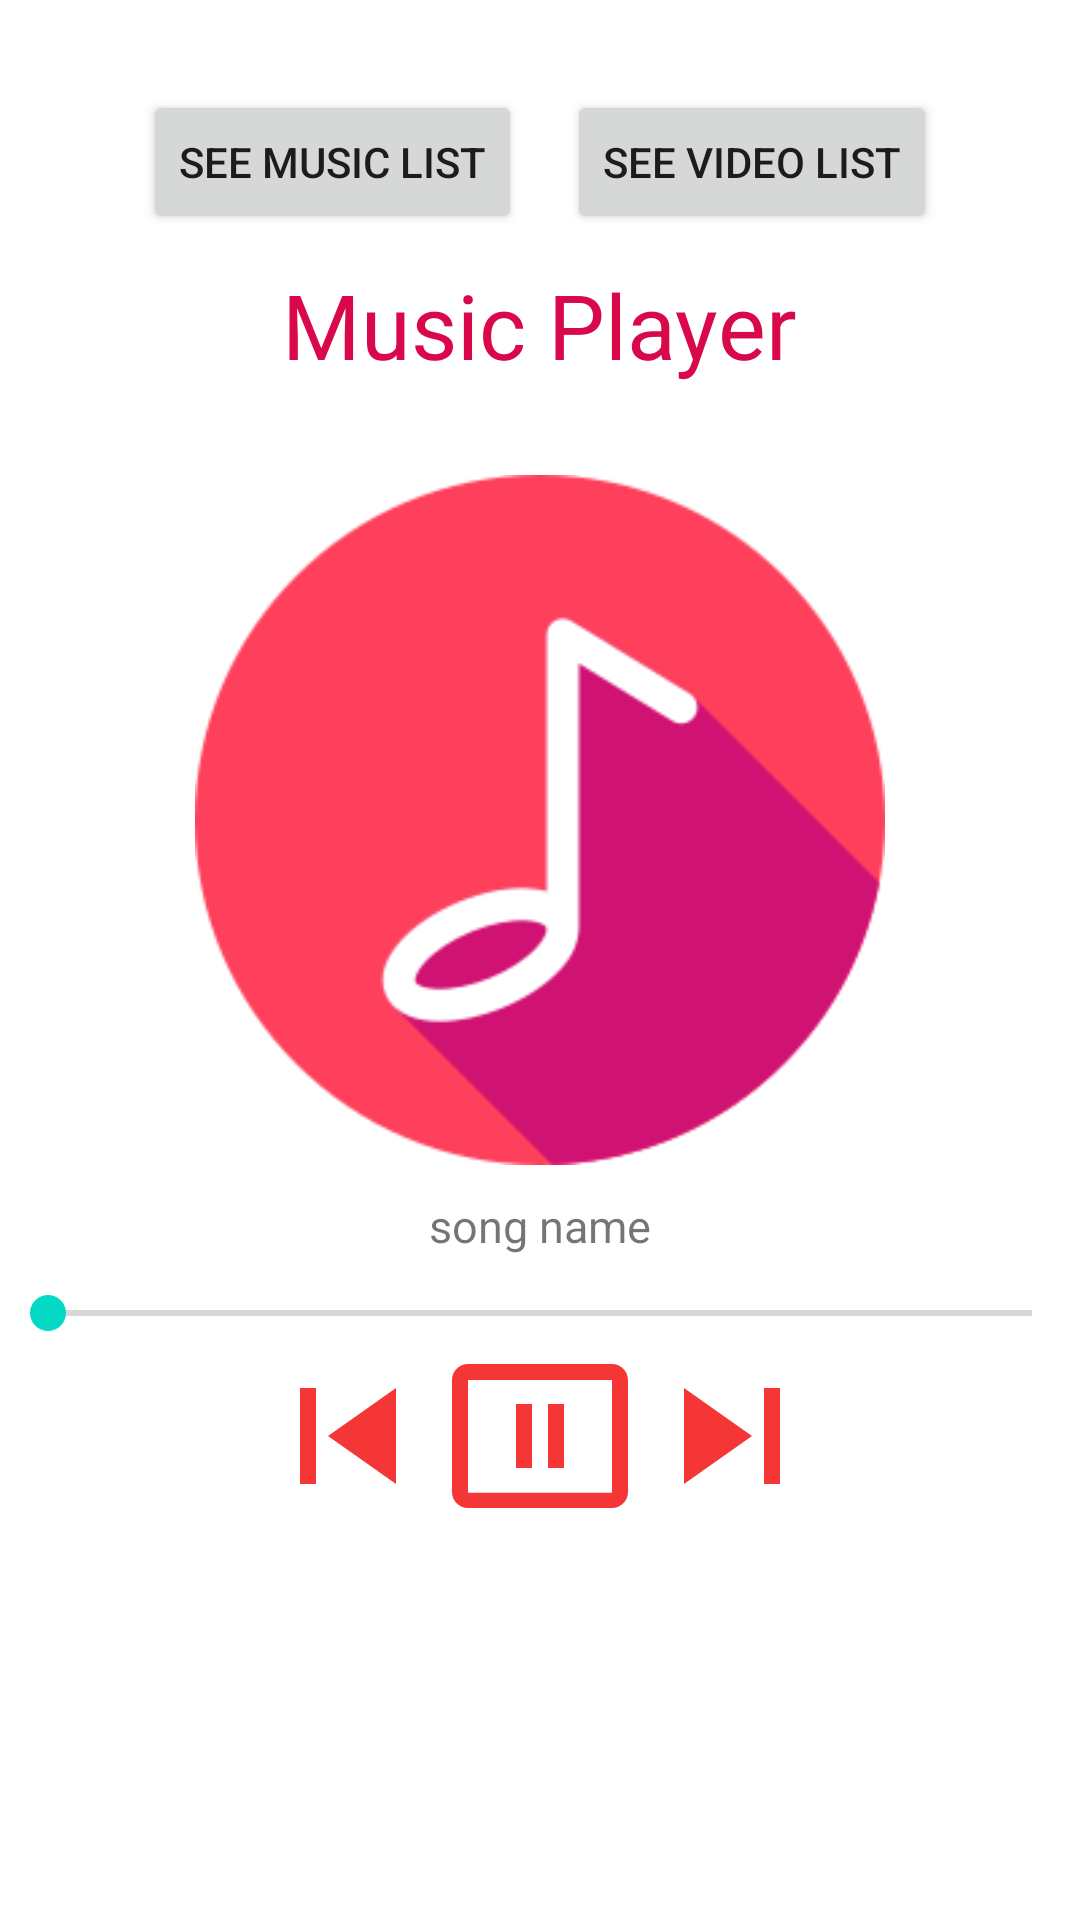

Icons on this 1080x1920 Android screen, each with the point to tap as point (x, y):
pause presentation: point (540, 1436)
skip next: point (732, 1436)
skip previous: point (348, 1436)
